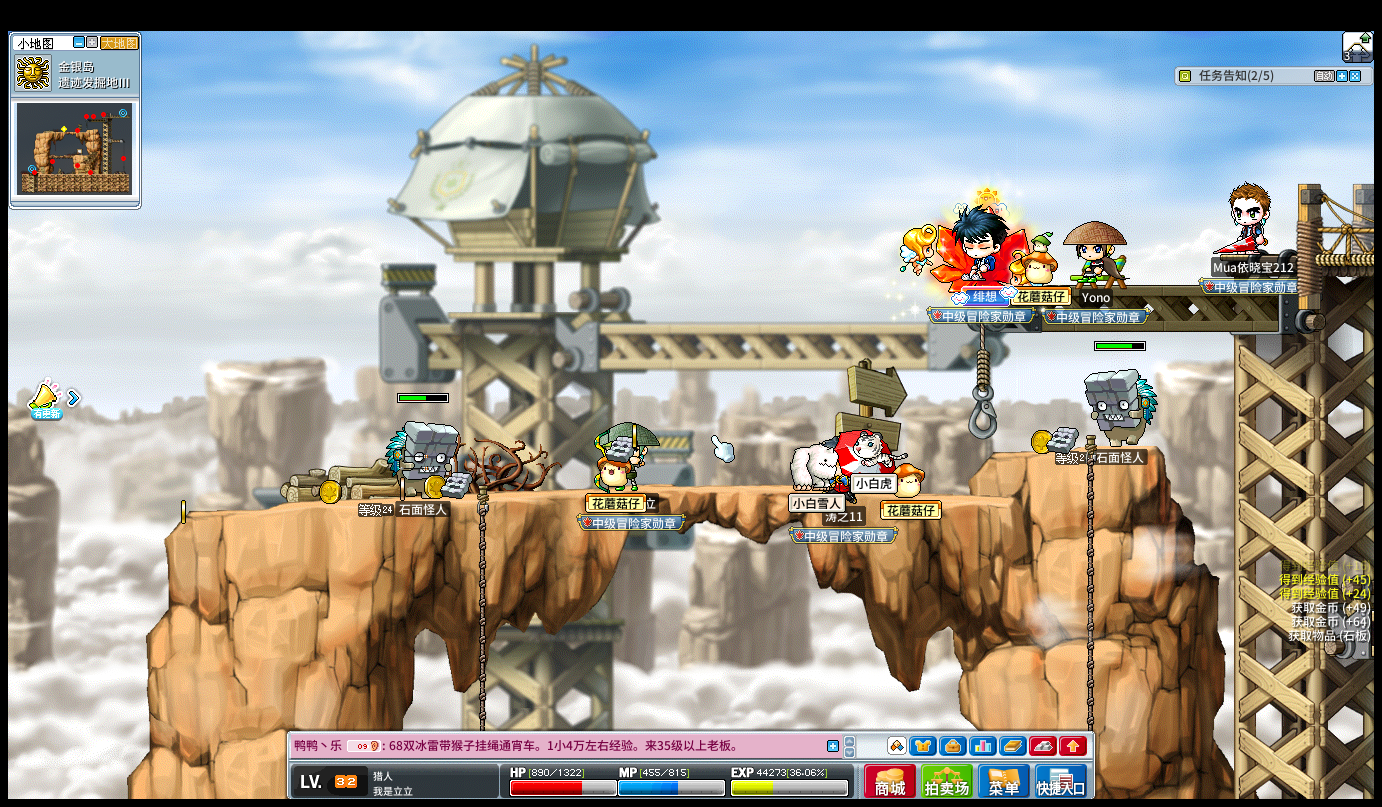floor: (149, 479, 995, 511), (184, 480, 1072, 503), (194, 482, 1054, 499)
monster: (384, 420, 458, 498), (1084, 368, 1157, 446)
rope: (1081, 447, 1098, 685), (474, 480, 488, 684)
